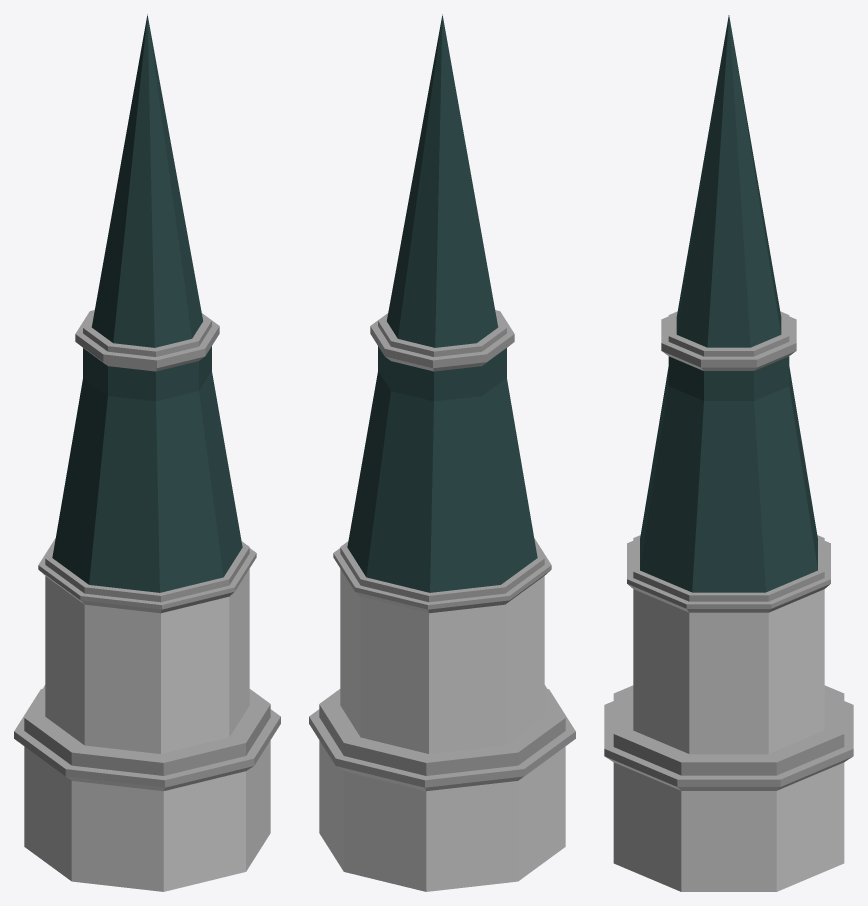
Rendered from Prop_Gothic_Pillar_Top_01.FBX.
The picture shows the model from 3 angles, left to right: view 1: azimuth 30°, elevation 25°; view 2: azimuth 150°, elevation 25°; view 3: azimuth 270°, elevation 25°; orthographic projection.
Parts seen in each view (by area): view 1: Prop_Gothic_Pillar_Top_01; view 2: Prop_Gothic_Pillar_Top_01; view 3: Prop_Gothic_Pillar_Top_01.
Boxes of the visible parts, x1=… form: Prop_Gothic_Pillar_Top_01: x1=14, y1=14, x2=280, y2=891; Prop_Gothic_Pillar_Top_01: x1=309, y1=14, x2=575, y2=891; Prop_Gothic_Pillar_Top_01: x1=604, y1=15, x2=853, y2=891.
Bounding box in the file's own units: 2333 × 8554 × 2333.
